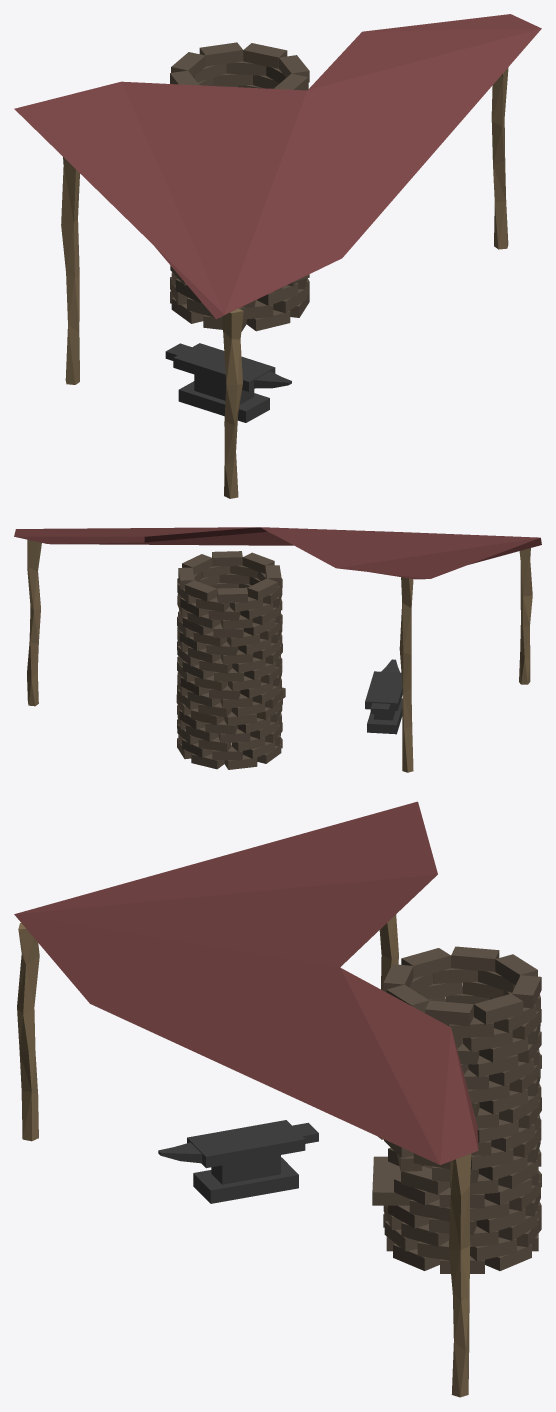
The model's file is Smith.fbx.
3 renders of one model, top to bottom at view 1: azimuth 30°, elevation 25°; view 2: azimuth 150°, elevation 25°; view 3: azimuth 270°, elevation 25°, orthographic. The views are drawn at different scales.
Parts seen in each view (by area): view 1: pCube12, Layer21, pCube1, pCylinder3, pCylinder2, pCylinder1; view 2: Layer21, pCube12, pCube1, pCylinder3, pCylinder1, pCylinder2; view 3: pCube12, Layer21, pCube1, pCylinder1, pCylinder2, pCylinder3.
Part boxes in pixels (x1,y1,x2,y2): pCube12: (14, 14, 541, 319); Layer21: (170, 42, 309, 331); pCube1: (165, 343, 291, 422); pCylinder3: (61, 157, 79, 384); pCylinder2: (222, 308, 243, 498); pCylinder1: (491, 67, 508, 249); Layer21: (176, 551, 285, 769); pCube12: (14, 527, 541, 579); pCube1: (365, 659, 402, 734); pCylinder3: (399, 577, 413, 772); pCylinder1: (27, 539, 41, 706); pCylinder2: (519, 548, 532, 684); pCube12: (14, 801, 478, 1164); Layer21: (372, 946, 541, 1273); pCube1: (158, 1120, 318, 1203); pCylinder1: (448, 1153, 471, 1397); pCylinder2: (17, 923, 39, 1141); pCylinder3: (378, 914, 398, 1139).
Bounding box in the file's own units: 15.66 × 7.65 × 11.73.
